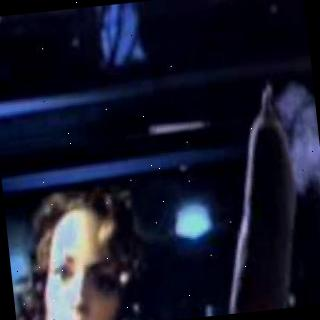smoke: (266, 0, 320, 249)
